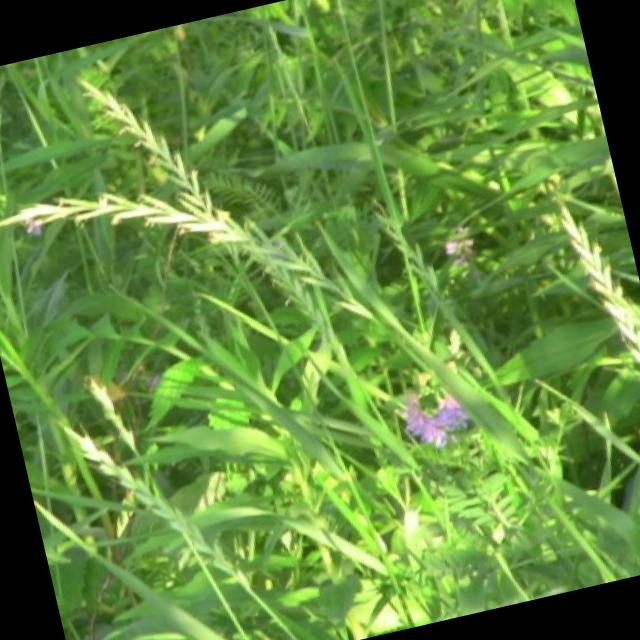Lolium: (78, 39, 327, 364), (0, 138, 351, 362), (71, 396, 244, 604), (541, 171, 640, 381)
